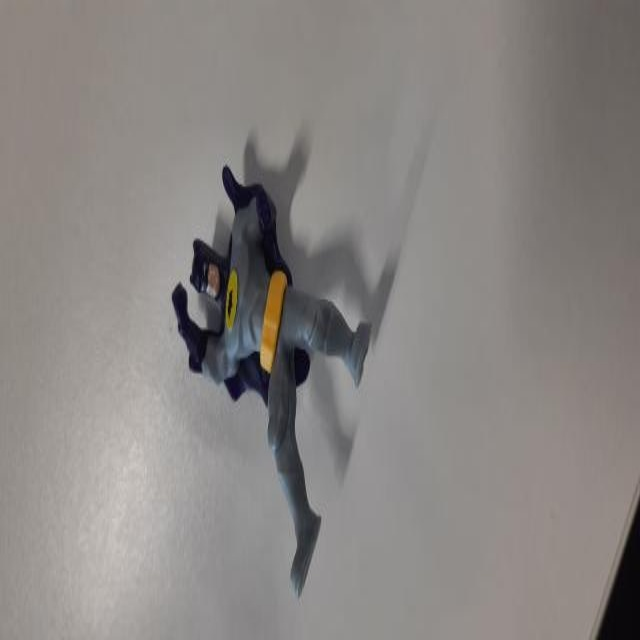Batman: (171, 165, 375, 603)
